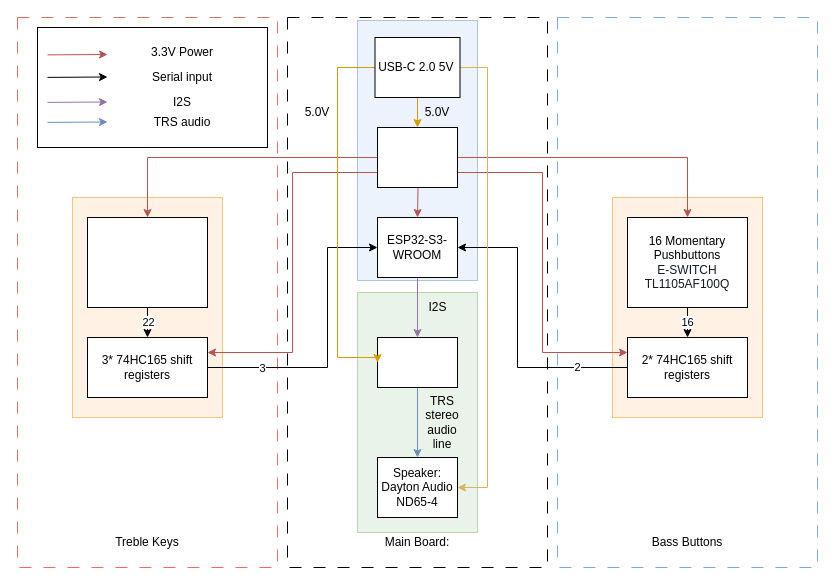
The diagram is 835 pixels wide and 585 high, and some of its shapes have lost their labels. Here are the shapes that lost their labels. From the top down, the box of each, then its label:
(376, 126, 458, 188): 3.3V Power Regulator: AZ1117-3.3
(86, 216, 208, 308): 22 Momentary Pushbuttons E-SWITCH TL1105AF100Q
(376, 336, 458, 388): 12 bit DAC: PCA5102
